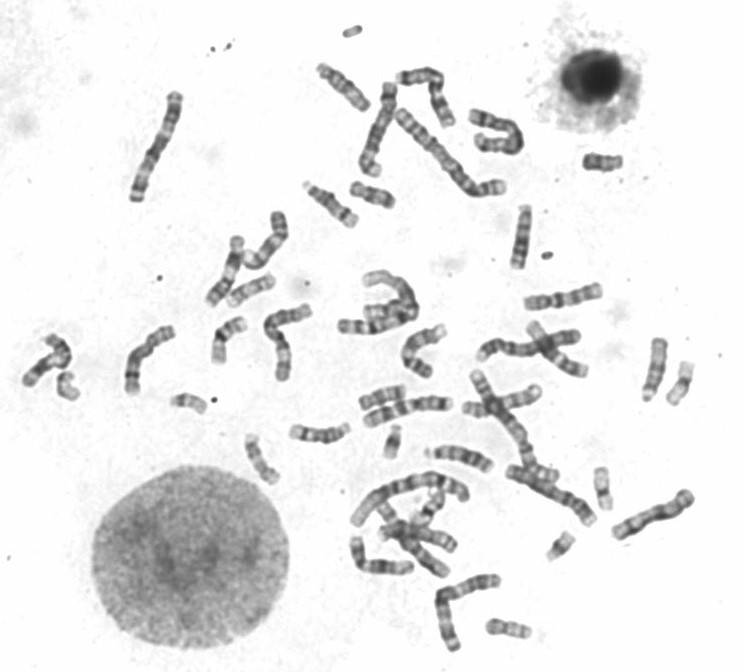chromosomes: (466, 365, 566, 486), (392, 105, 513, 203), (124, 86, 191, 209), (347, 468, 475, 531), (502, 460, 601, 532), (432, 569, 508, 658), (374, 499, 454, 580), (259, 296, 320, 390), (608, 483, 703, 543), (356, 76, 409, 180), (120, 319, 182, 397), (472, 325, 589, 366), (521, 316, 593, 381), (392, 65, 460, 132), (16, 325, 79, 393), (202, 231, 253, 313), (459, 379, 550, 423), (341, 532, 421, 581), (359, 391, 457, 431), (395, 317, 454, 382), (516, 278, 609, 319), (464, 104, 532, 160), (332, 298, 427, 338), (300, 177, 364, 235), (314, 55, 375, 115), (359, 265, 421, 322), (240, 207, 293, 272), (374, 519, 463, 554), (241, 428, 286, 492), (222, 266, 282, 314), (418, 441, 495, 478), (635, 333, 674, 406), (206, 311, 251, 370), (506, 200, 540, 276), (663, 356, 703, 412), (284, 418, 354, 449), (586, 459, 619, 518), (347, 178, 399, 213), (409, 485, 450, 529), (354, 379, 410, 411), (576, 146, 629, 179), (479, 614, 537, 643), (166, 388, 214, 421), (375, 419, 407, 465), (544, 527, 578, 568), (54, 368, 87, 408)
